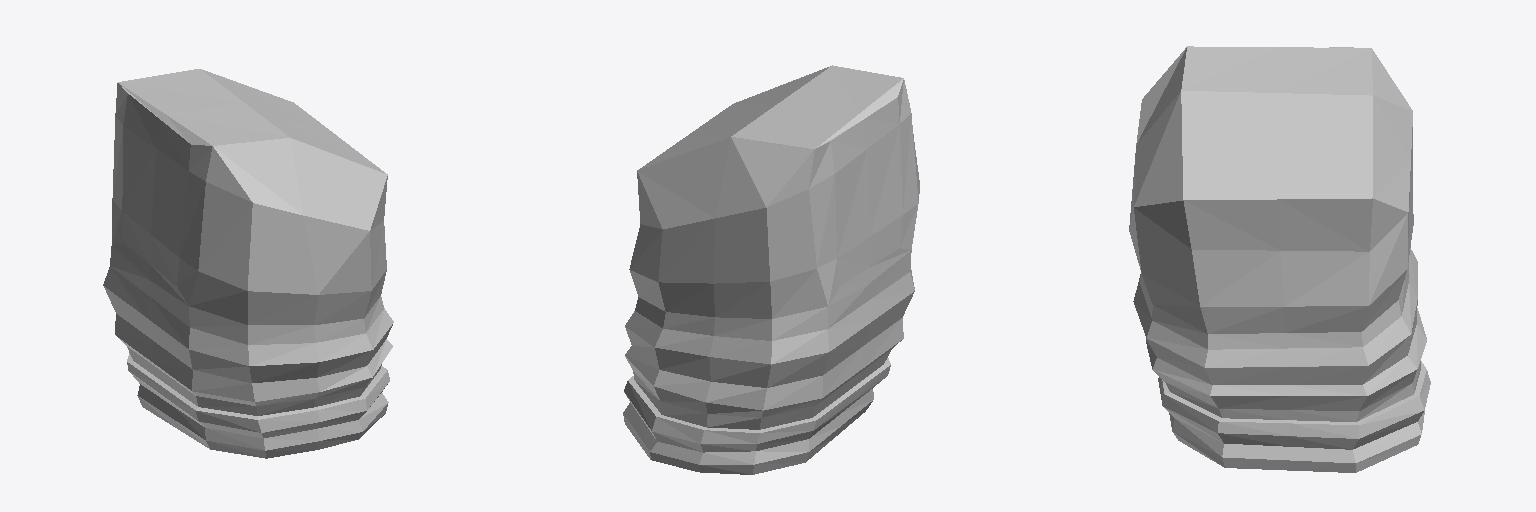
Rendered from sleeve L.obj.
3 views of the same model, side by side, from view 1: azimuth 30°, elevation 25°; view 2: azimuth 150°, elevation 25°; view 3: azimuth 270°, elevation 25° (orthographic).
Parts seen in each view (by area): view 1: sleeve_L; view 2: sleeve_L; view 3: sleeve_L.
Part boxes in pixels (x1,y1,x2,y2): sleeve_L: (103, 69, 393, 458); sleeve_L: (623, 65, 919, 474); sleeve_L: (1129, 46, 1430, 472).
Bounding box in the file's own units: 0.7444 × 1.1 × 0.9081.